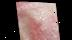plaque psoriasis: (23, 4, 59, 40), (16, 1, 40, 40)
